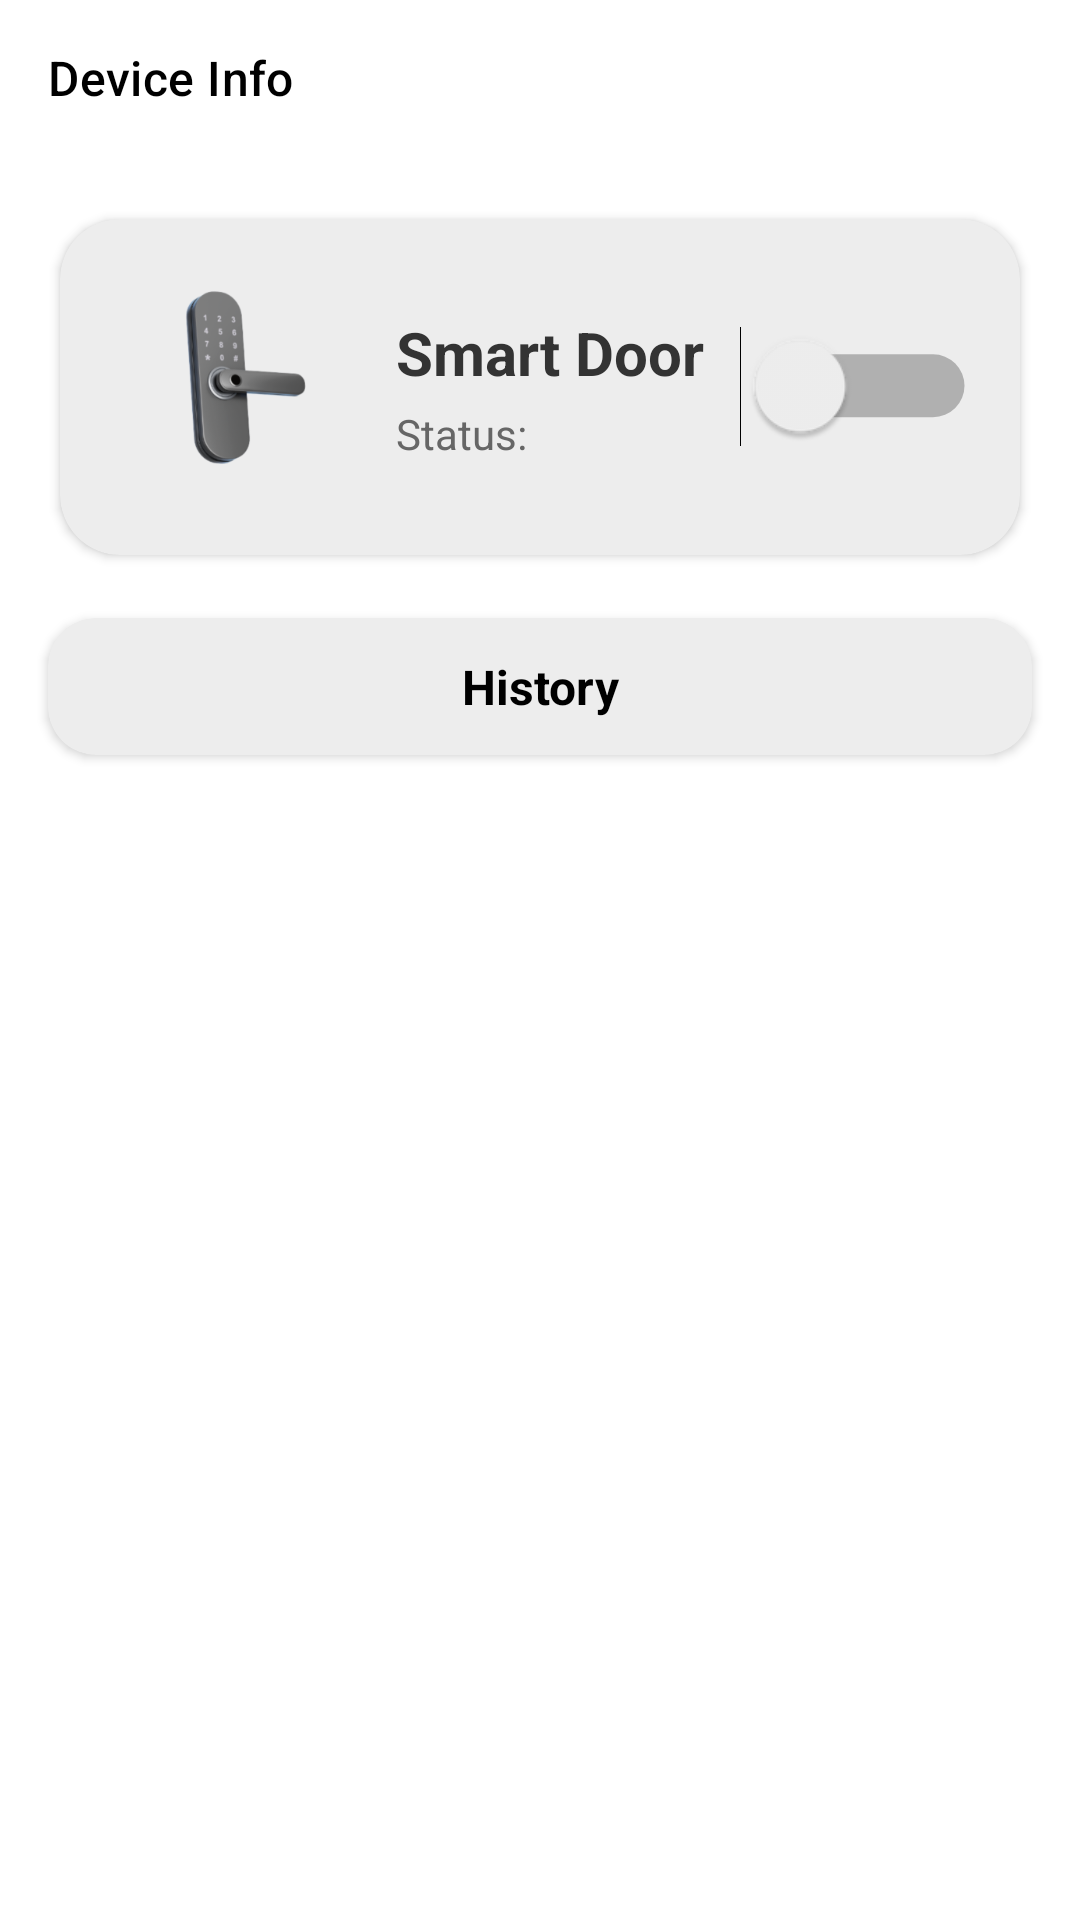

Screen size 1080×1920. Icon name, then its box in pixels as (x1, y1, x2, y2):
lock: (186, 291, 306, 464)
